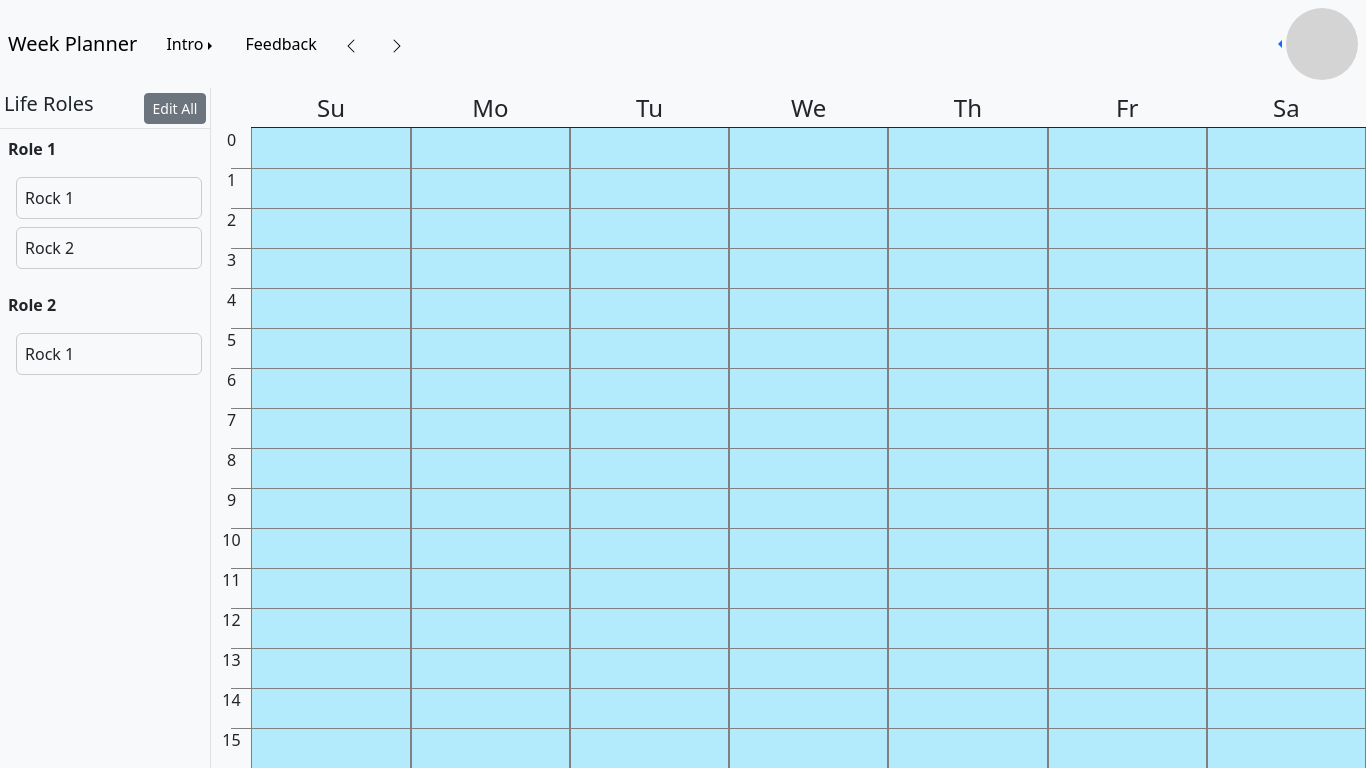
Test: Role bar controls › can add a Role.
The width and height of the screenshot is (1366, 768).
Click the button with id "editing-btn" at (175, 108), box left=144, top=92, right=206, bottom=124
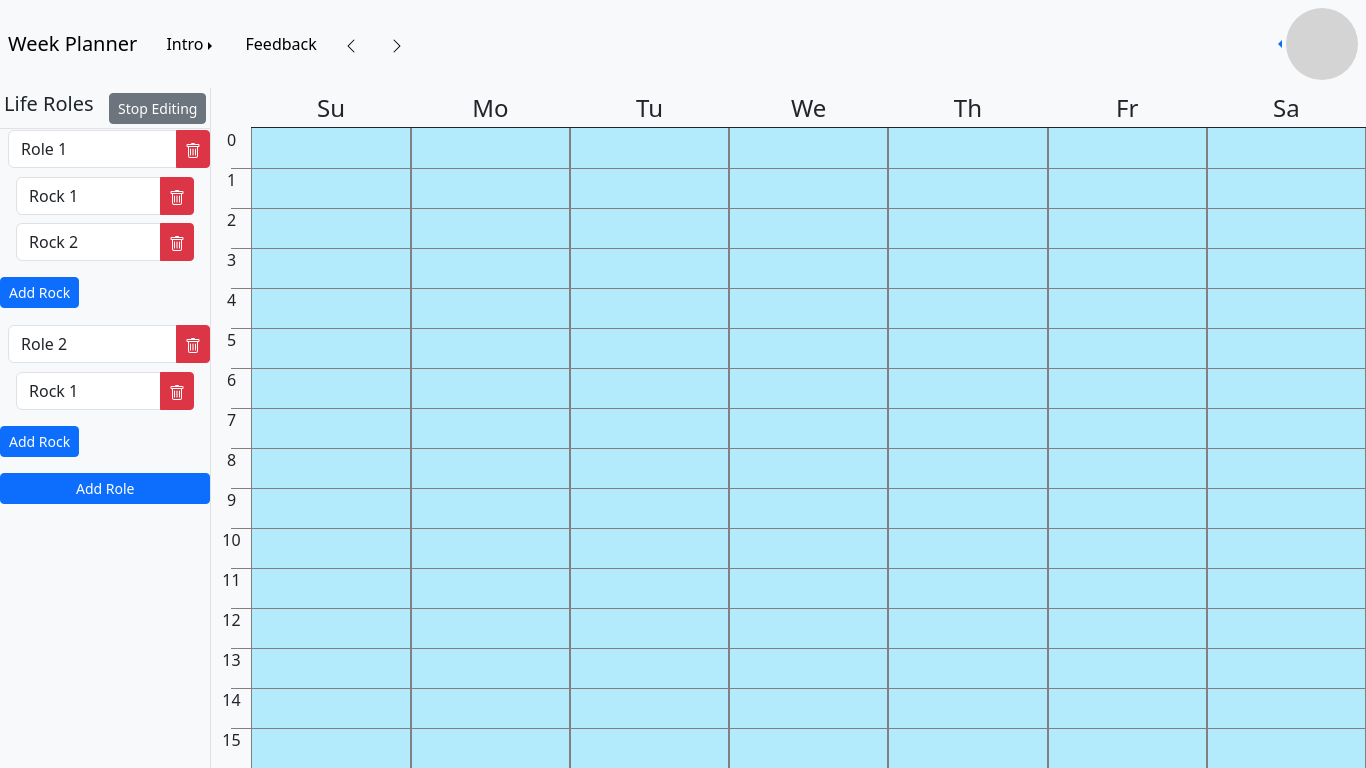
Click the button with id "add-role-btn" at (105, 488), box left=0, top=473, right=210, bottom=504
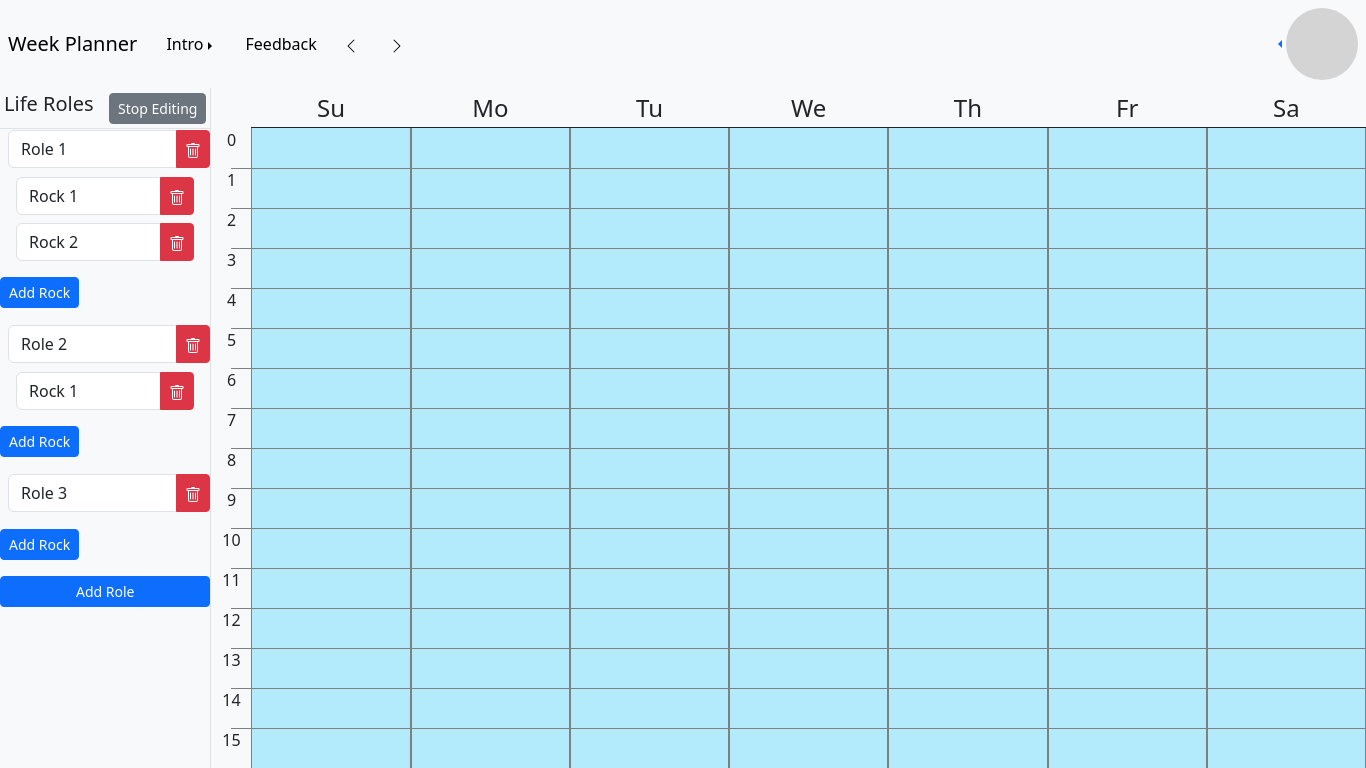
expect the number of elements with class "role" is 3: met, box left=0, top=129, right=210, bottom=308; left=0, top=324, right=210, bottom=457; left=0, top=473, right=210, bottom=560
